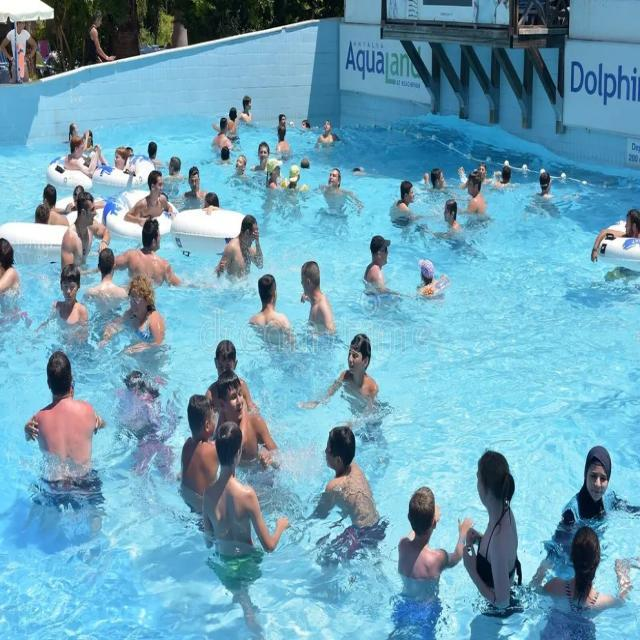Drowning: (113, 365, 175, 469), (311, 168, 364, 219)
Swimming: (21, 351, 105, 472), (112, 280, 167, 351), (584, 203, 640, 271), (431, 198, 477, 245), (417, 257, 451, 301)
